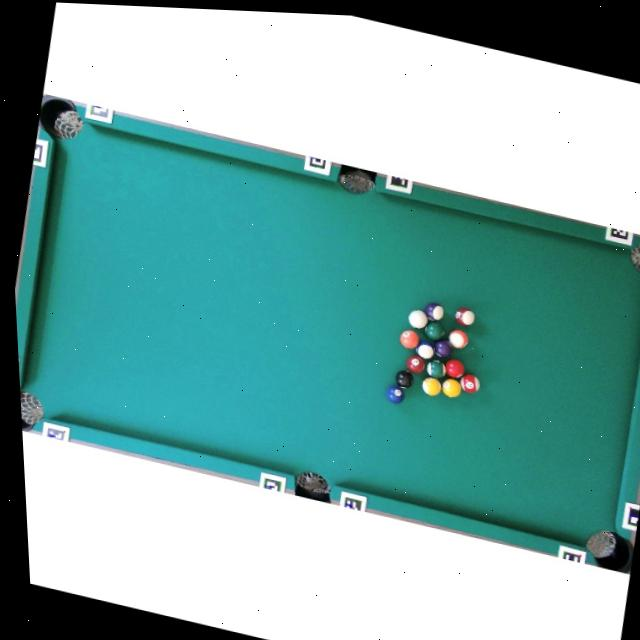cue ball: (406, 308, 430, 331)
other: (439, 376, 464, 400), (443, 357, 467, 381), (458, 372, 482, 396), (453, 305, 477, 328), (447, 328, 471, 351), (424, 358, 448, 381), (432, 337, 455, 360), (398, 328, 421, 351), (404, 353, 427, 376), (424, 320, 447, 343), (423, 300, 446, 323), (420, 375, 443, 398), (384, 383, 407, 405), (415, 338, 437, 360), (394, 369, 416, 391)
